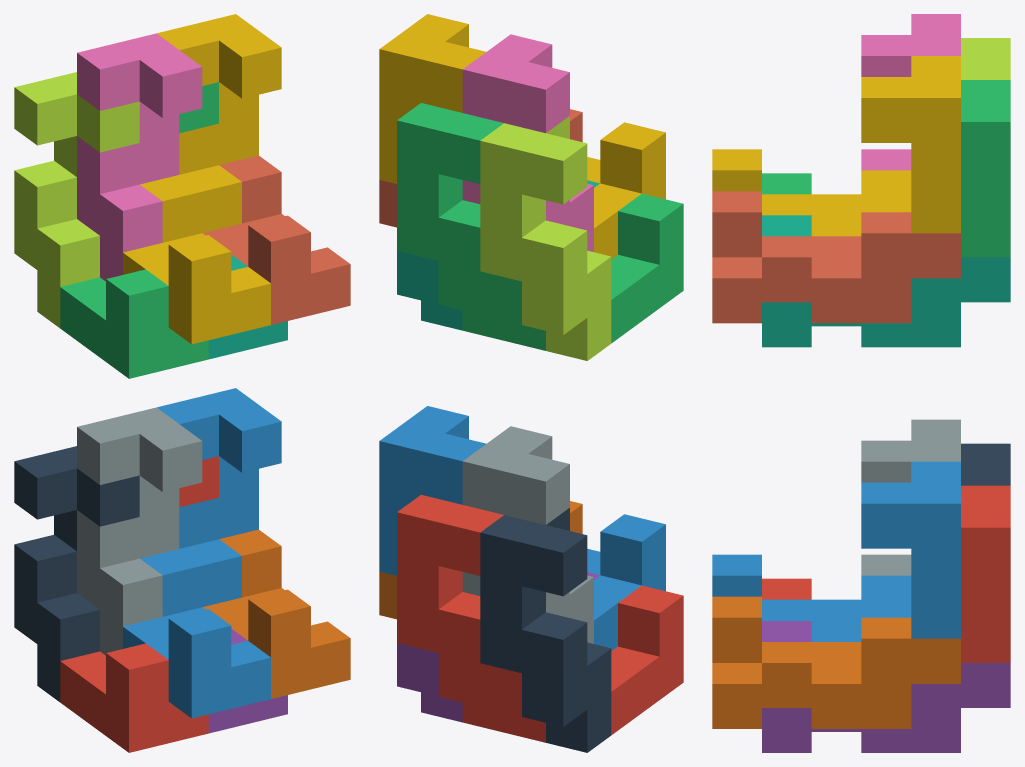
The model's file is tiling.obj.
The picture shows the model from 3 angles, left to right: view 1: azimuth 30°, elevation 25°; view 2: azimuth 150°, elevation 25°; view 3: azimuth 270°, elevation 25°; orthographic projection. The views are drawn at different scales.
Parts seen in each view (by area): view 1: copy_2_domain_2, copy_2_domain_4, copy_2_domain_3, copy_2_domain_1, copy_2_domain_6, copy_2_domain_8, copy_1_domain_2, copy_1_domain_4, copy_1_domain_6, copy_1_domain_8, copy_1_domain_3, copy_1_domain_1 (+4 smaller); view 2: copy_2_domain_1, copy_2_domain_3, copy_2_domain_5, copy_2_domain_7, copy_1_domain_1, copy_1_domain_3, copy_2_domain_2, copy_2_domain_4, copy_2_domain_6, copy_2_domain_8, copy_1_domain_4, copy_1_domain_2 (+4 smaller); view 3: copy_1_domain_8, copy_1_domain_6, copy_2_domain_6, copy_2_domain_8, copy_1_domain_7, copy_1_domain_5, copy_2_domain_5, copy_2_domain_7, copy_1_domain_2, copy_1_domain_4, copy_2_domain_2, copy_2_domain_4 (+4 smaller).
Part boxes in pixels (box(x1,y1,x2,y2)): copy_2_domain_2: box(77, 407, 202, 655); copy_2_domain_4: box(77, 33, 202, 281); copy_2_domain_3: box(14, 72, 139, 328); copy_2_domain_1: box(14, 446, 139, 702); copy_2_domain_6: box(157, 388, 281, 606); copy_2_domain_8: box(157, 14, 281, 232); copy_1_domain_2: box(123, 549, 270, 718); copy_1_domain_4: box(123, 175, 270, 344); copy_1_domain_6: box(202, 529, 350, 698); copy_1_domain_8: box(202, 155, 350, 324); copy_1_domain_3: box(60, 269, 208, 378); copy_1_domain_1: box(60, 643, 208, 752); copy_2_domain_1: box(480, 508, 611, 752); copy_2_domain_3: box(480, 116, 611, 360); copy_2_domain_5: box(397, 494, 504, 732); copy_2_domain_7: box(397, 103, 504, 340); copy_1_domain_1: box(480, 585, 683, 742); copy_1_domain_3: box(480, 193, 683, 350); copy_2_domain_2: box(462, 426, 593, 643); copy_2_domain_4: box(462, 34, 593, 251); copy_2_domain_6: box(379, 406, 486, 575); copy_2_domain_8: box(379, 14, 485, 183); copy_1_domain_4: box(587, 122, 665, 259); copy_1_domain_2: box(587, 514, 665, 650); copy_1_domain_8: box(712, 191, 960, 323); copy_1_domain_6: box(712, 596, 960, 728); copy_2_domain_6: box(861, 461, 960, 638); copy_2_domain_8: box(861, 56, 960, 233); copy_1_domain_7: box(762, 215, 1010, 347); copy_1_domain_5: box(762, 621, 1010, 752); copy_2_domain_5: box(961, 485, 1010, 662); copy_2_domain_7: box(961, 80, 1010, 257); copy_1_domain_2: box(712, 554, 911, 641); copy_1_domain_4: box(712, 149, 911, 236); copy_2_domain_2: box(861, 419, 960, 575); copy_2_domain_4: box(861, 14, 960, 170).
Size of the model in its own units: 5 by 15 by 6.
